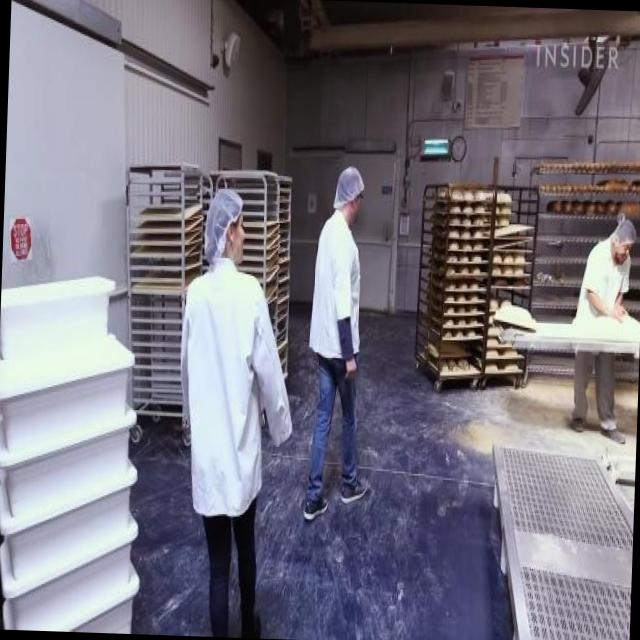hairnet: (202, 186, 240, 244), (328, 166, 362, 198), (616, 218, 637, 248)
